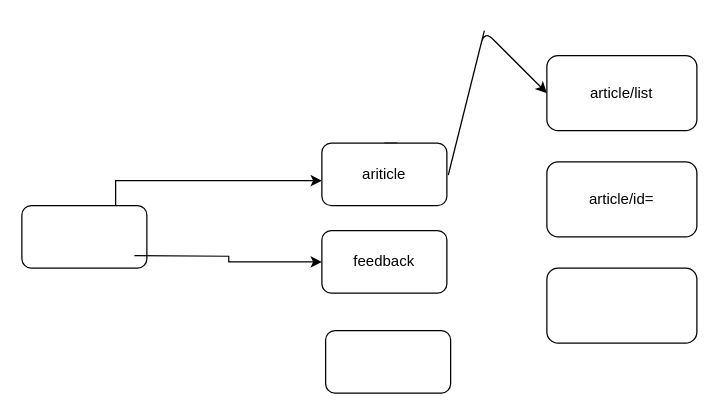
The diagram is 719 pixels wide and 415 high, and some of its shapes have lost their labels. The shapes that lost their labels are listed below. From the top down, each one's box as (x1, y1, x2, y2) in pixels, then its label:
(21, 204, 147, 268): APP
(324, 329, 451, 393): help
